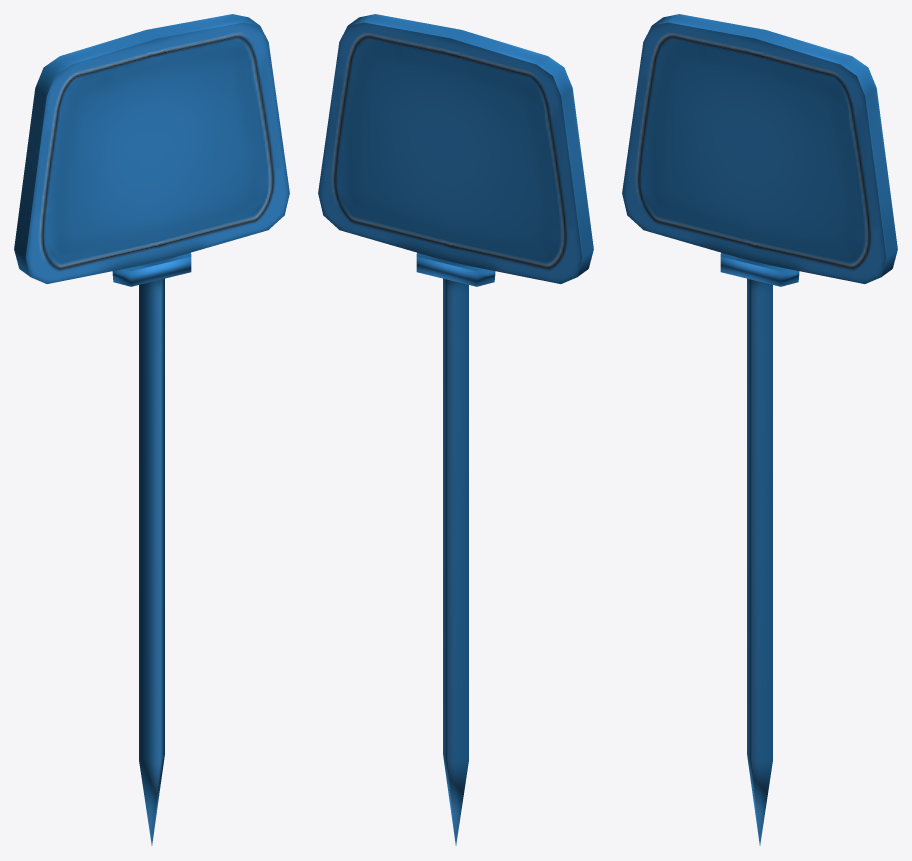
Rendered from stick.fbx.
The picture shows the model from 3 angles, left to right: view 1: azimuth 30°, elevation 25°; view 2: azimuth 150°, elevation 25°; view 3: azimuth 330°, elevation 25°; orthographic projection.
Parts seen in each view (by area): view 1: stick; view 2: stick; view 3: stick.
Boxes of the visible parts, box(x1,y1,x2,y2) form: stick: box(14, 14, 289, 845); stick: box(318, 14, 593, 845); stick: box(622, 14, 897, 845).
Size of the model in its own units: 1.16 by 3.41 by 0.1406.
Materials: 1 (1 with a texture image).
